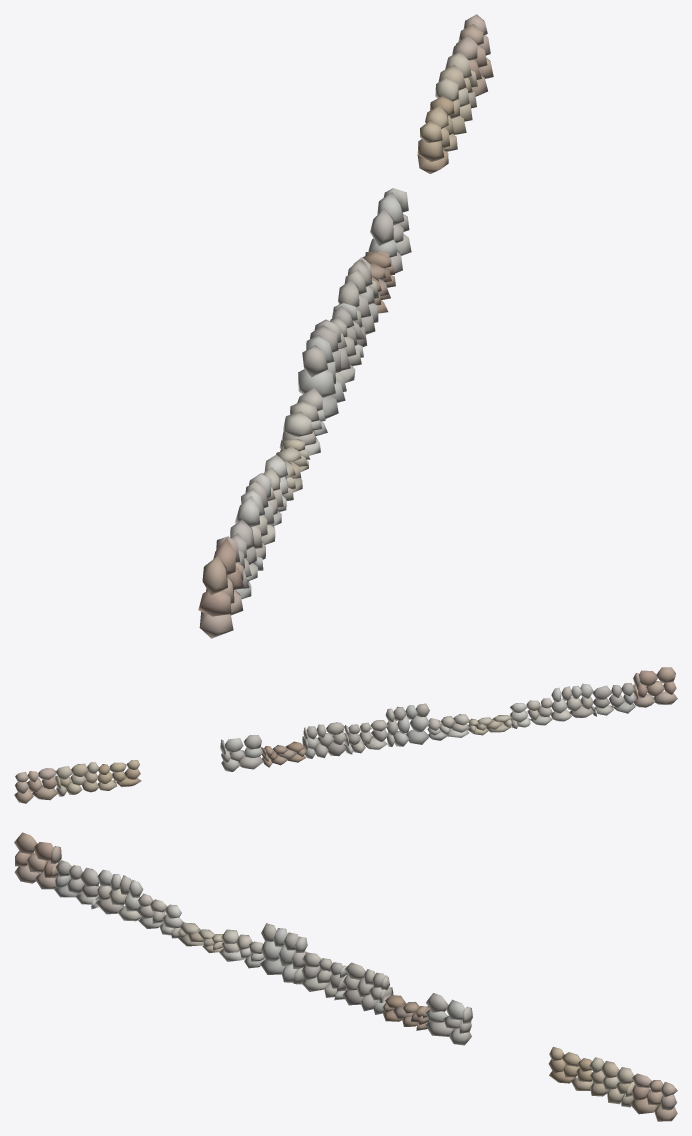
The model's file is farm_-33_-26_near.glb.
3 views of the same model, one above another, from view 1: azimuth 30°, elevation 25°; view 2: azimuth 150°, elevation 25°; view 3: azimuth 270°, elevation 25° (orthographic). The views are drawn at different scales.
Parts seen in each view (by area): view 1: geometry_0; view 2: geometry_0; view 3: geometry_0.
Boxes of the visible parts, x1=… form: geometry_0: x1=198, y1=14, x2=493, y2=638; geometry_0: x1=14, y1=667, x2=677, y2=803; geometry_0: x1=14, y1=832, x2=677, y2=1121.
Bounding box in the file's own units: 16.66 × 1.65 × 18.99.
